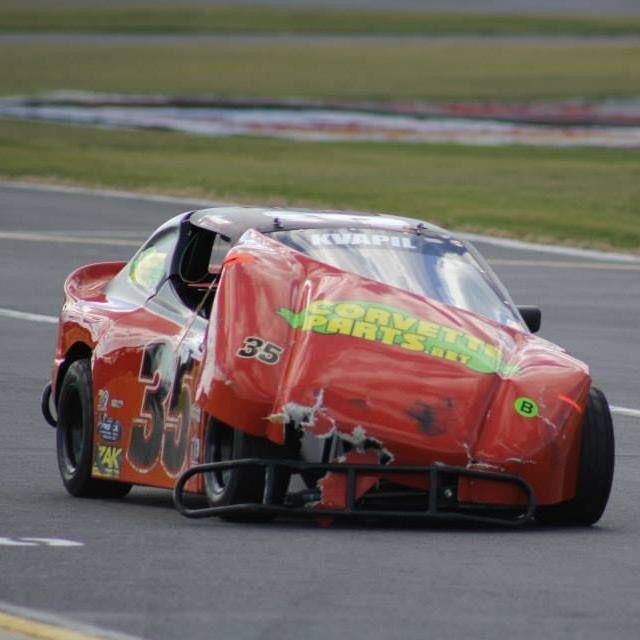crush: (197, 228, 589, 530)
